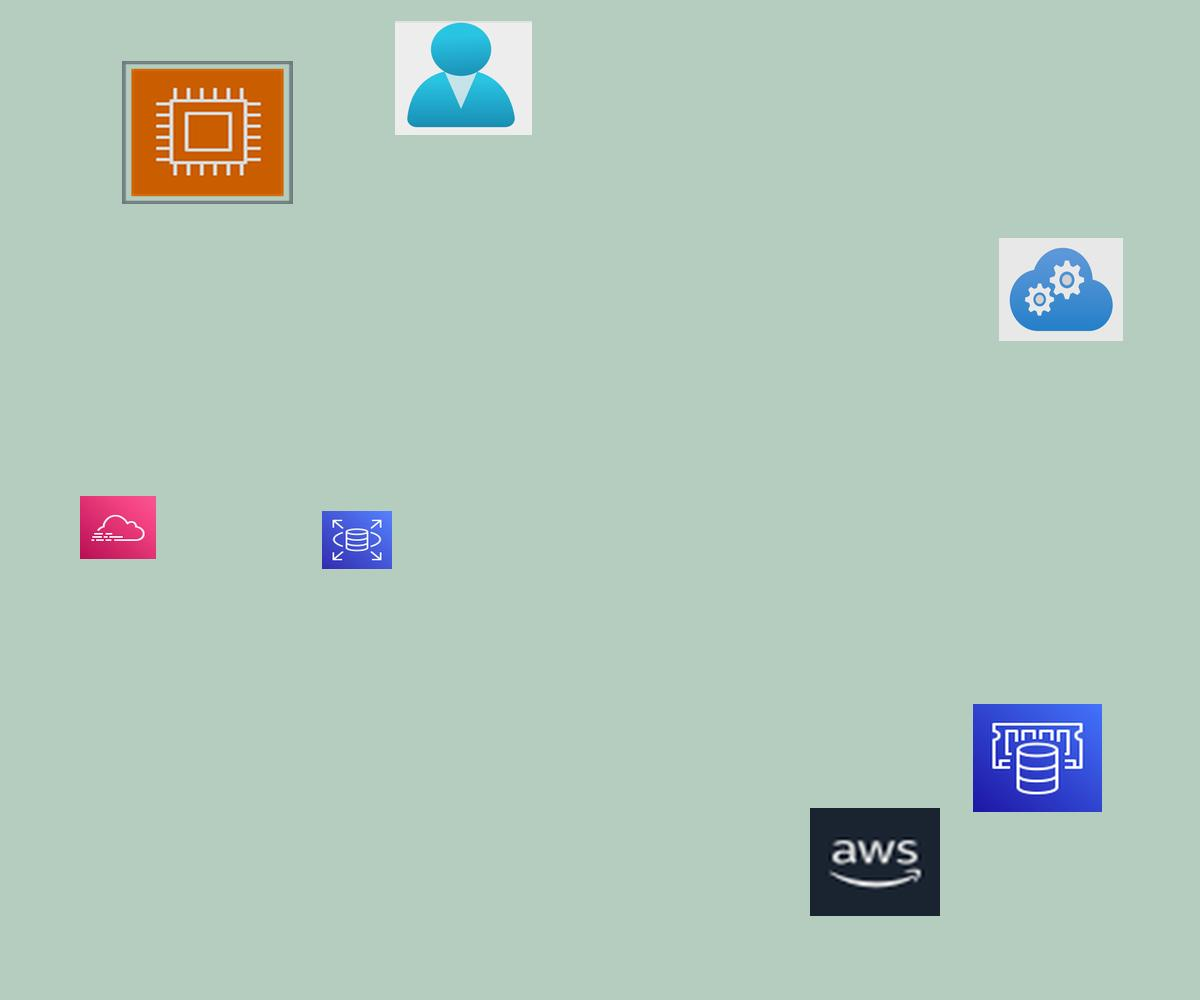AWS-Category_Compute: (122, 61, 293, 204)
AWS-Cloud-logo: (810, 808, 940, 916)
AWS-CloudTrail: (80, 496, 156, 559)
AWS-ElastiCache: (973, 704, 1102, 812)
AWS-RDS: (322, 511, 392, 569)
Azure_cloud_services: (999, 238, 1123, 341)
Azure_users: (395, 21, 532, 135)
